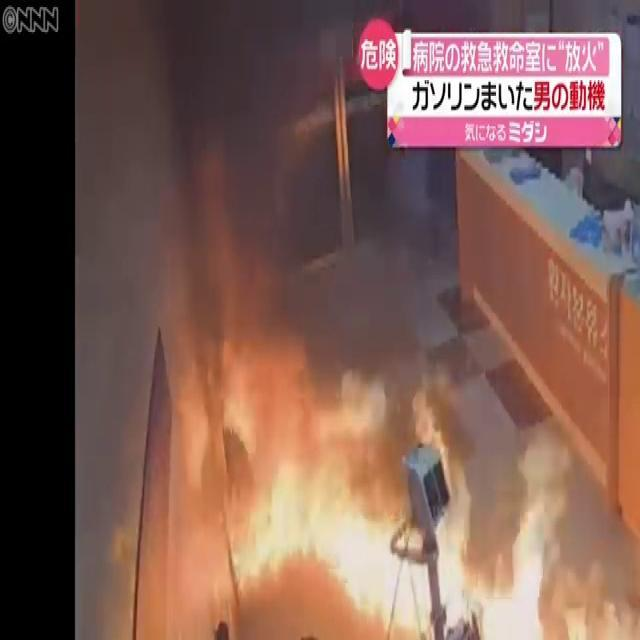Fire: (189, 387, 628, 640)
Smoke: (148, 0, 342, 343)
